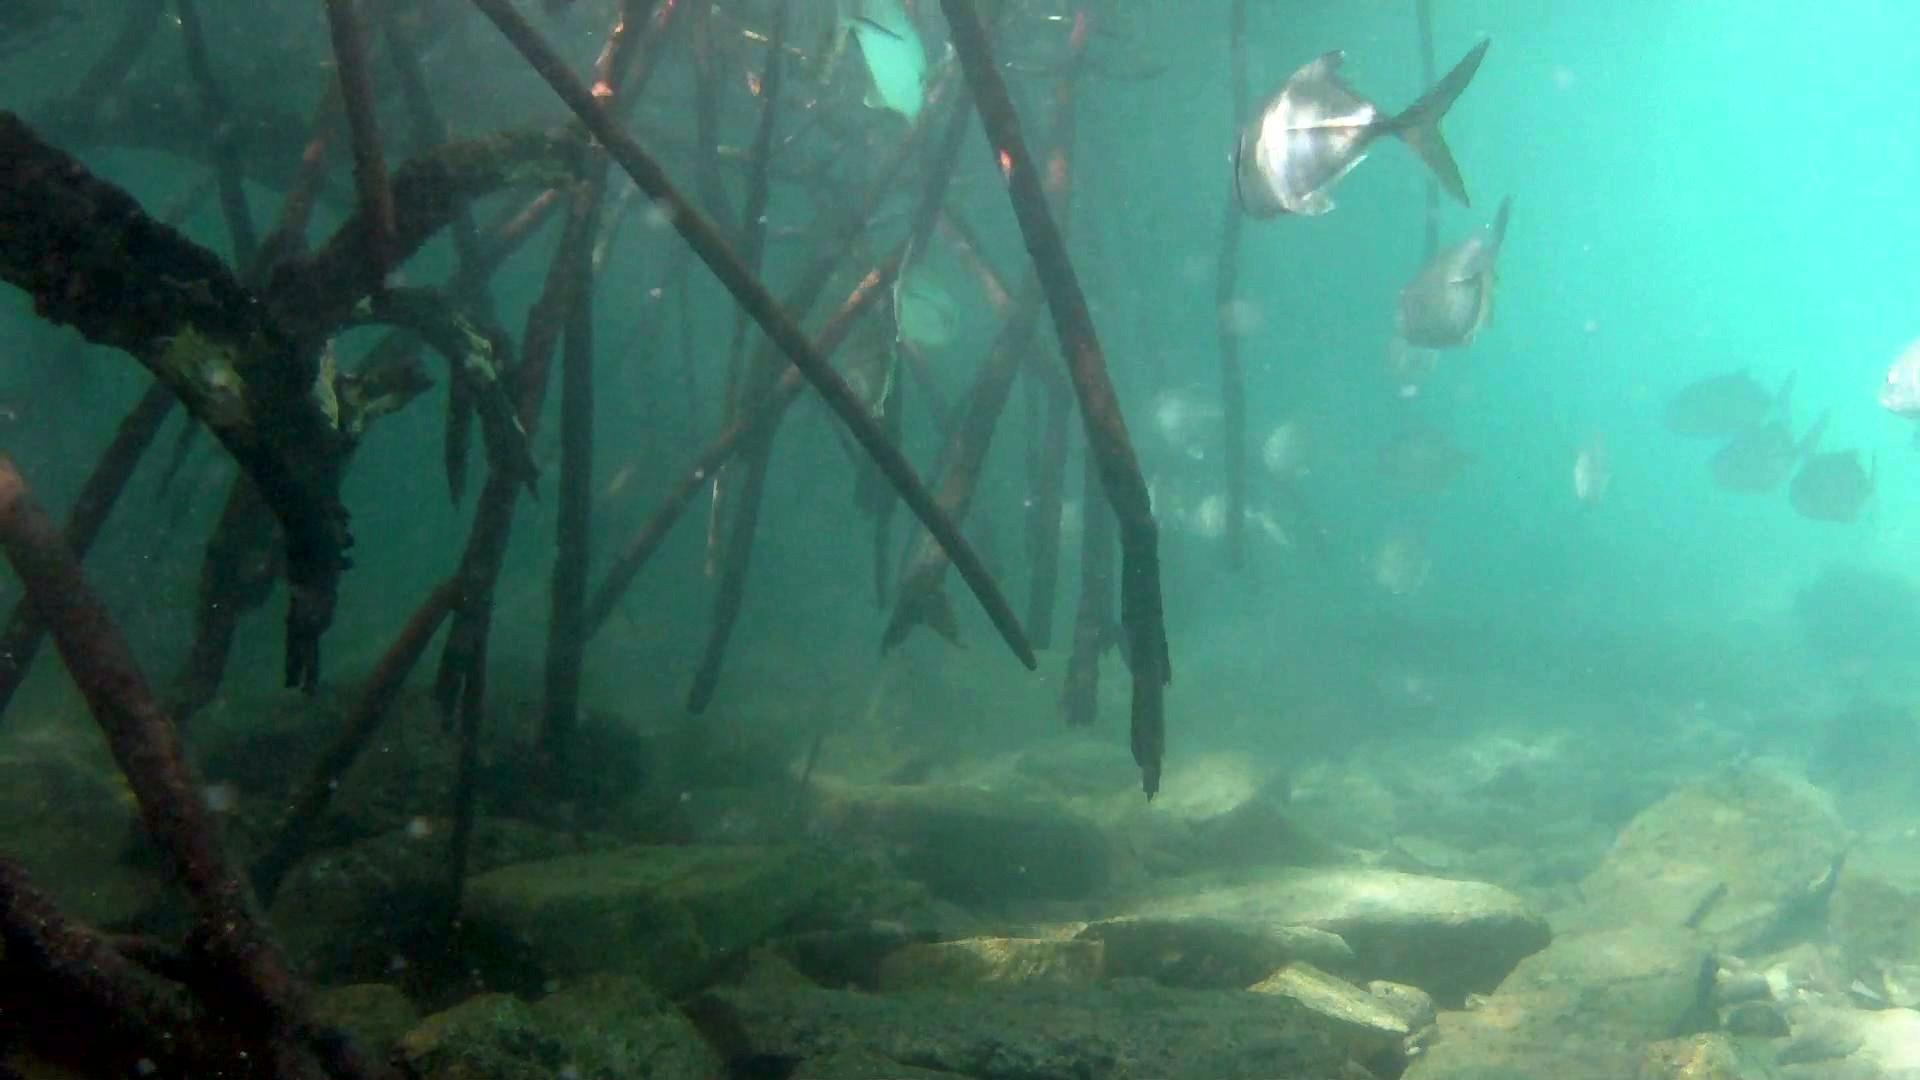caranx: (1222, 32, 1495, 223), (820, 0, 935, 132)
